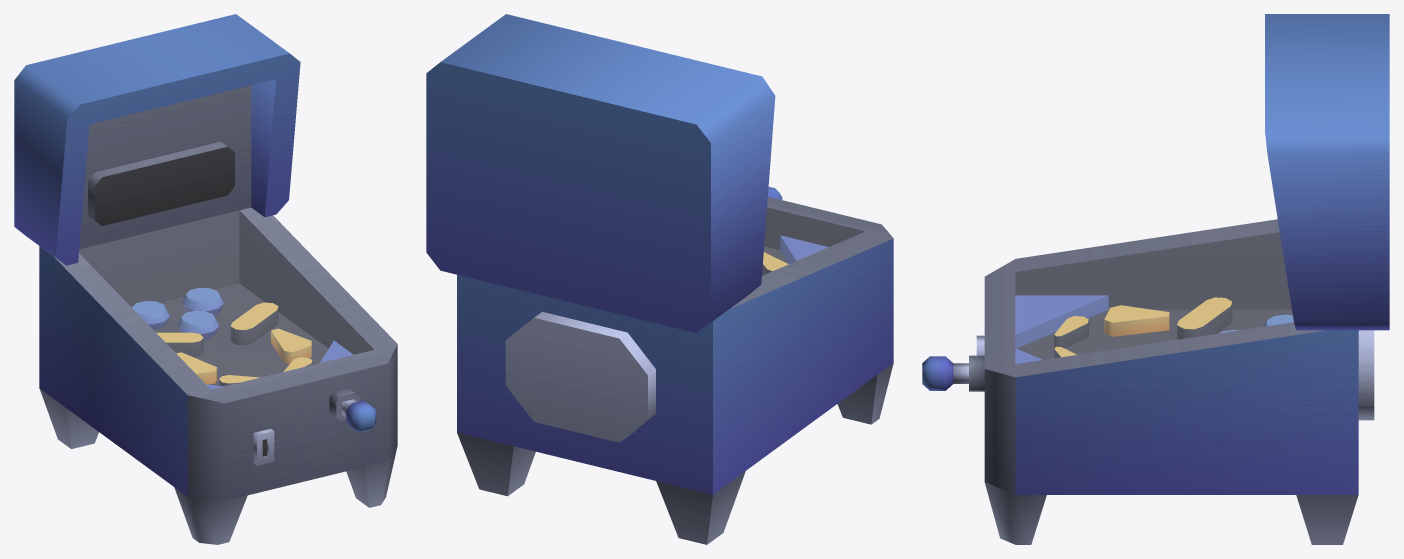
File: pinball.glb
The picture shows the model from 3 angles, left to right: view 1: azimuth 30°, elevation 25°; view 2: azimuth 150°, elevation 25°; view 3: azimuth 270°, elevation 25°; orthographic projection. The views are drawn at different scales.
Visible parts, largest first — view 1: pinball, (%ignore); view 2: pinball, (%ignore); view 3: pinball, (%ignore).
Boxes of the visible parts, x1,y1,x2,y2 form: pinball: (14, 14, 397, 544); (%ignore): (79, 210, 373, 389); pinball: (426, 14, 893, 544); (%ignore): (762, 207, 864, 275); pinball: (922, 14, 1389, 544); (%ignore): (1015, 232, 1293, 363).
Size of the model in its own units: 0.5 by 0.7417 by 0.75.
2 materials, 1 textured.
